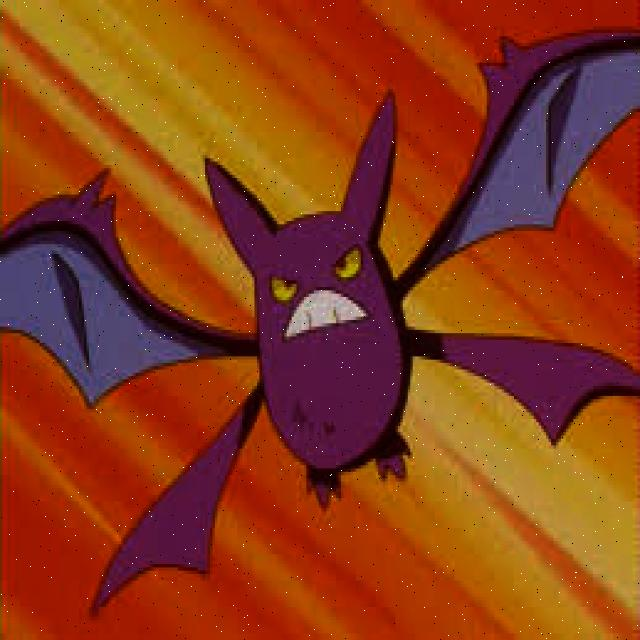crobat: (2, 31, 640, 624)
